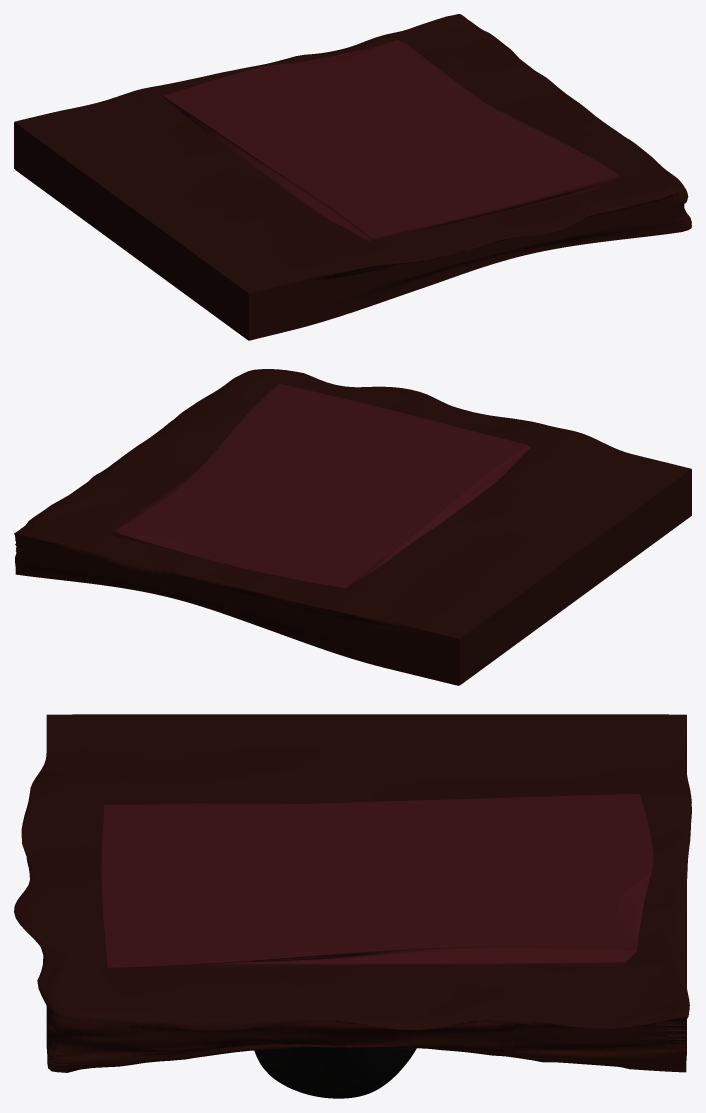
Rendered from platform.fbx.
3 renders of one model, top to bottom at view 1: azimuth 30°, elevation 25°; view 2: azimuth 150°, elevation 25°; view 3: azimuth 270°, elevation 25°, orthographic. The views are drawn at different scales.
Parts seen in each view (by area): view 1: platform, carpet; view 2: platform, carpet; view 3: platform, carpet, lamp.
Boxes of the visible parts, x1,y1,x2,y2 form: platform: [14, 14, 691, 340]; carpet: [163, 40, 619, 240]; platform: [14, 369, 691, 685]; carpet: [111, 383, 530, 590]; platform: [14, 714, 691, 1072]; carpet: [101, 794, 653, 968]; lamp: [254, 1047, 416, 1098].
Size of the model in its own units: 564 by 146 by 533.
